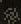cobwebT: (1, 0, 21, 24)
